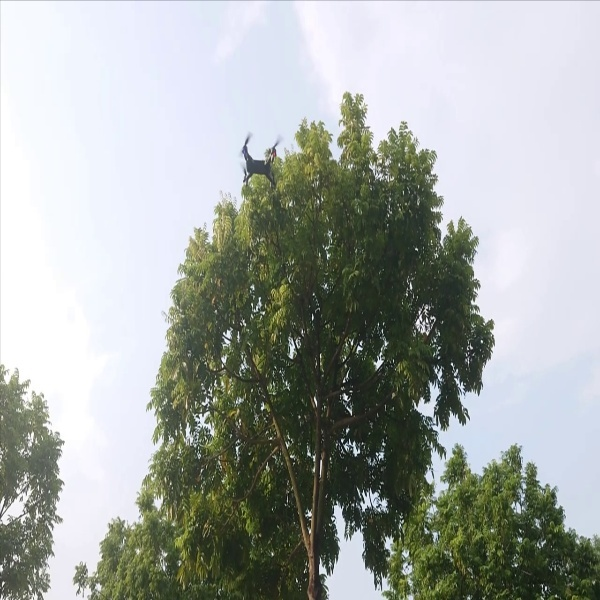drone: (236, 131, 284, 190)
